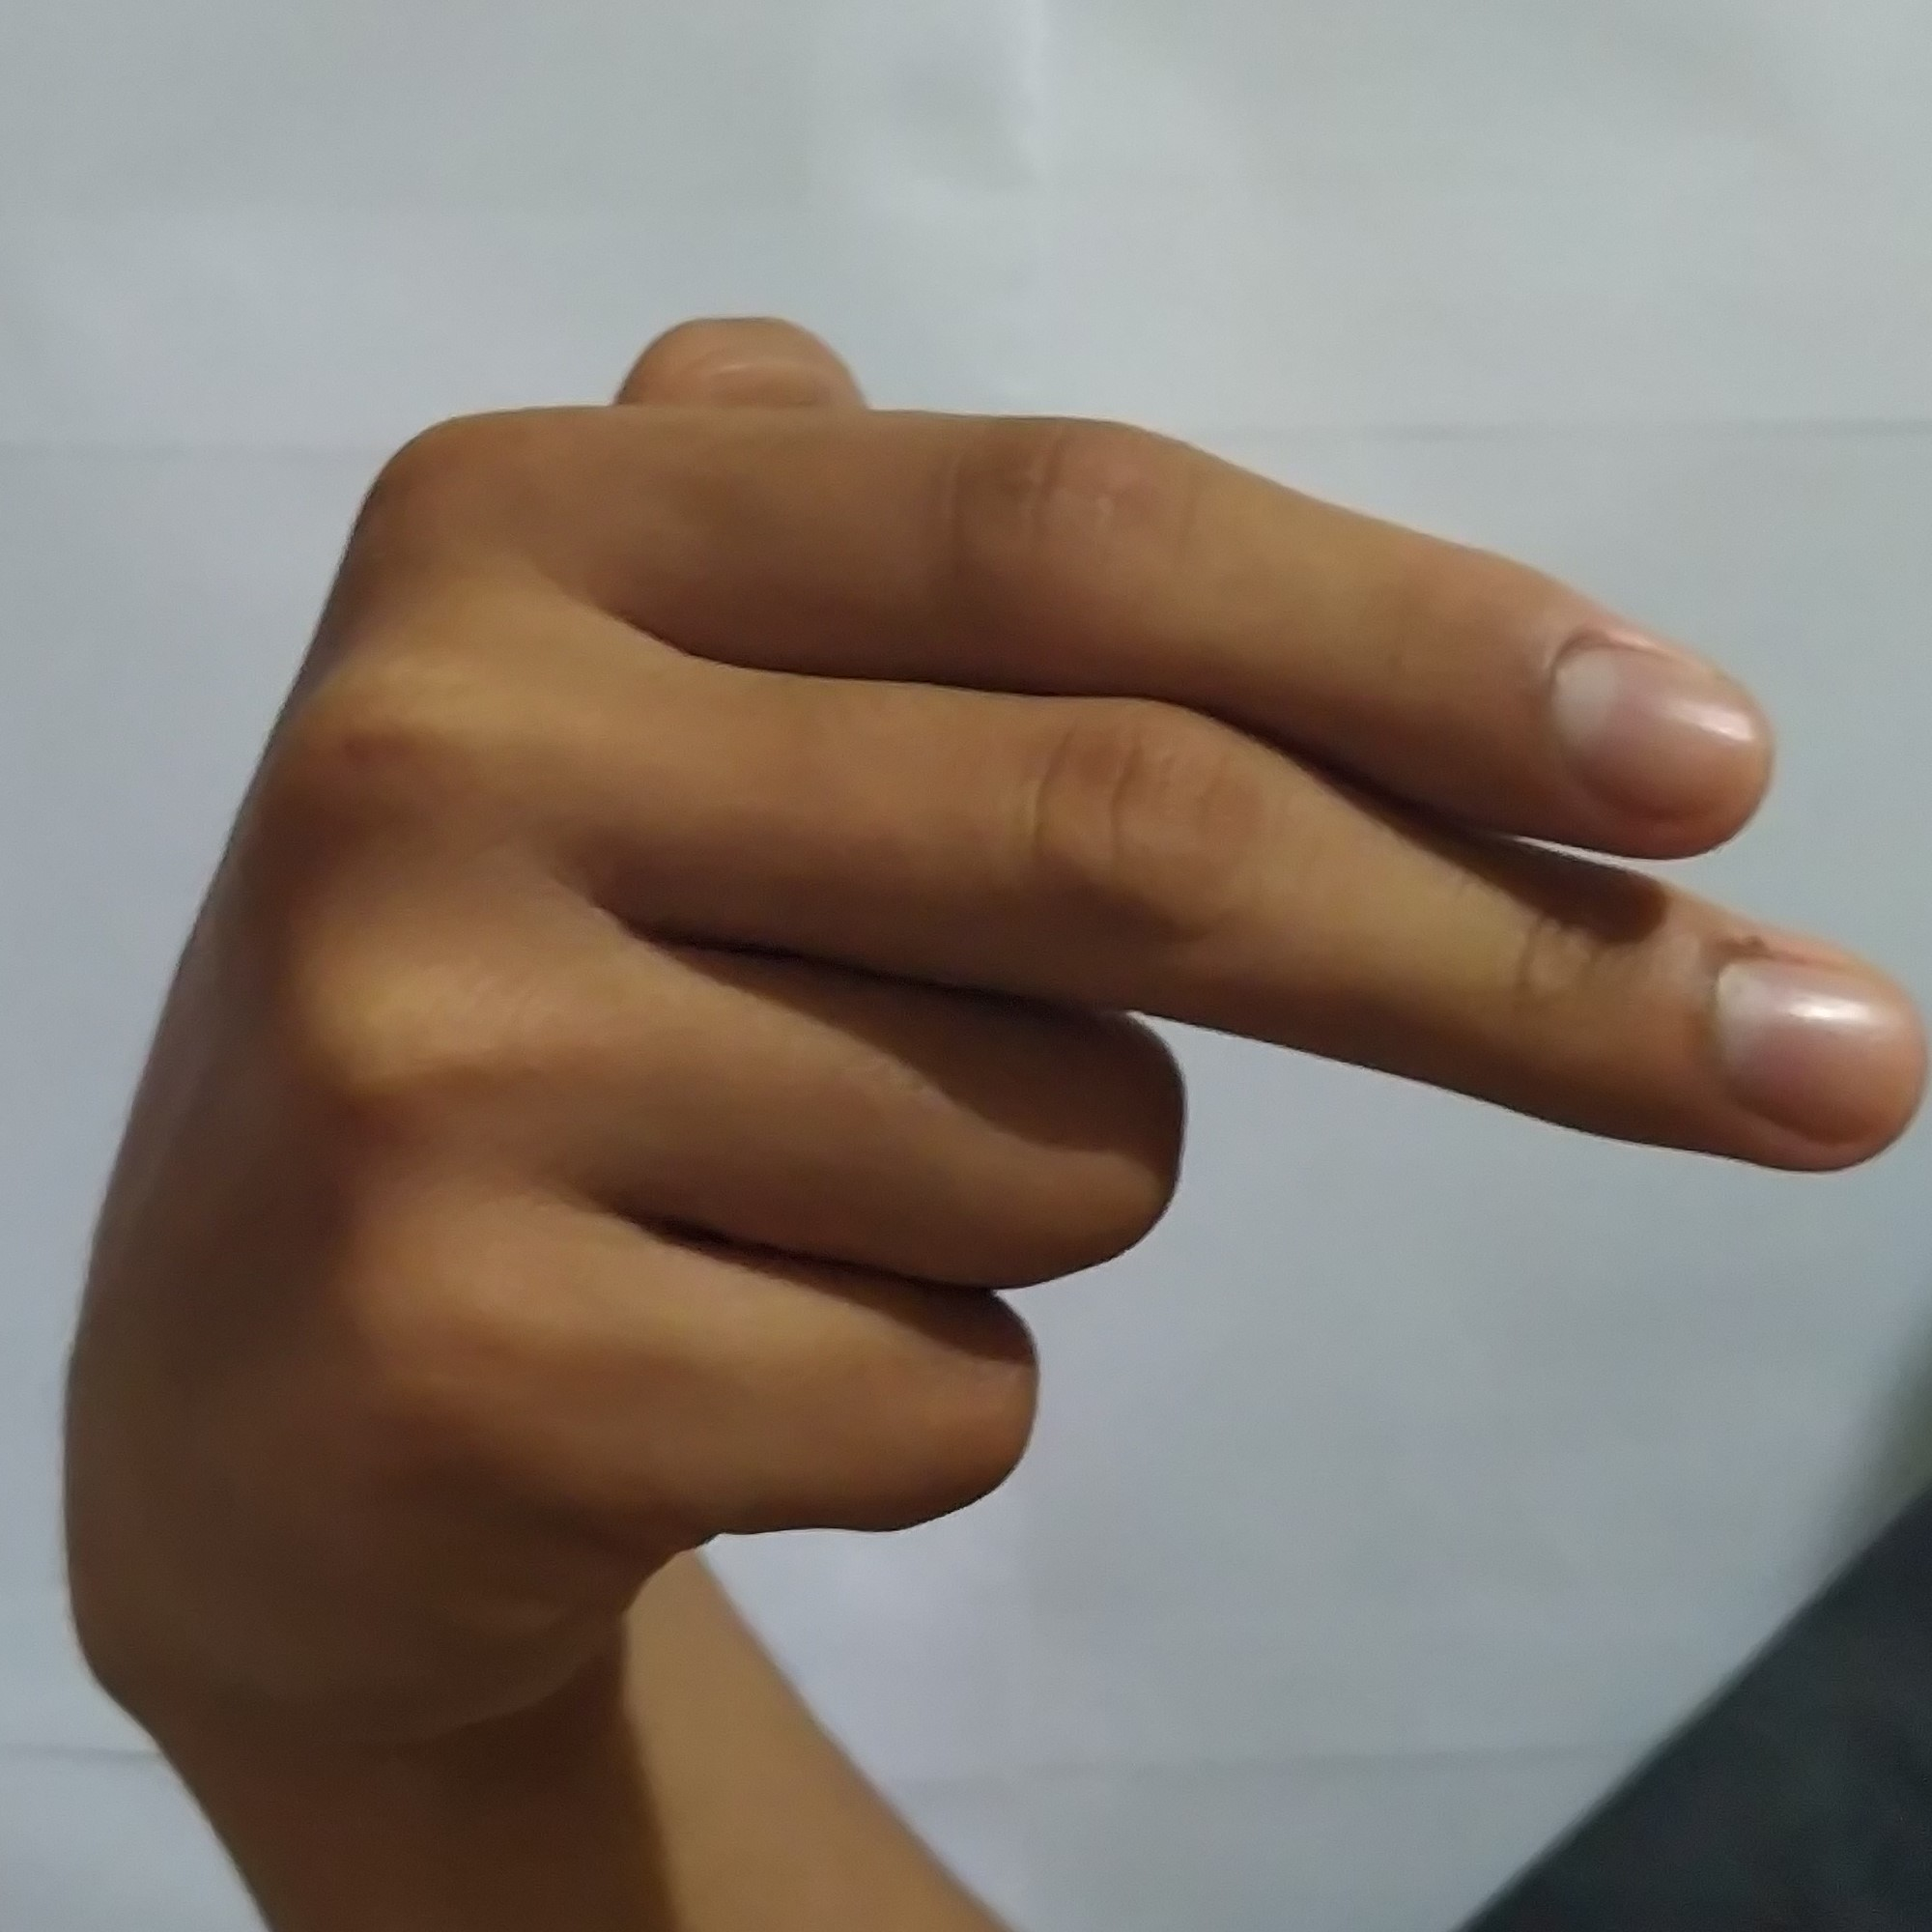H: (65, 292, 1932, 1642)
